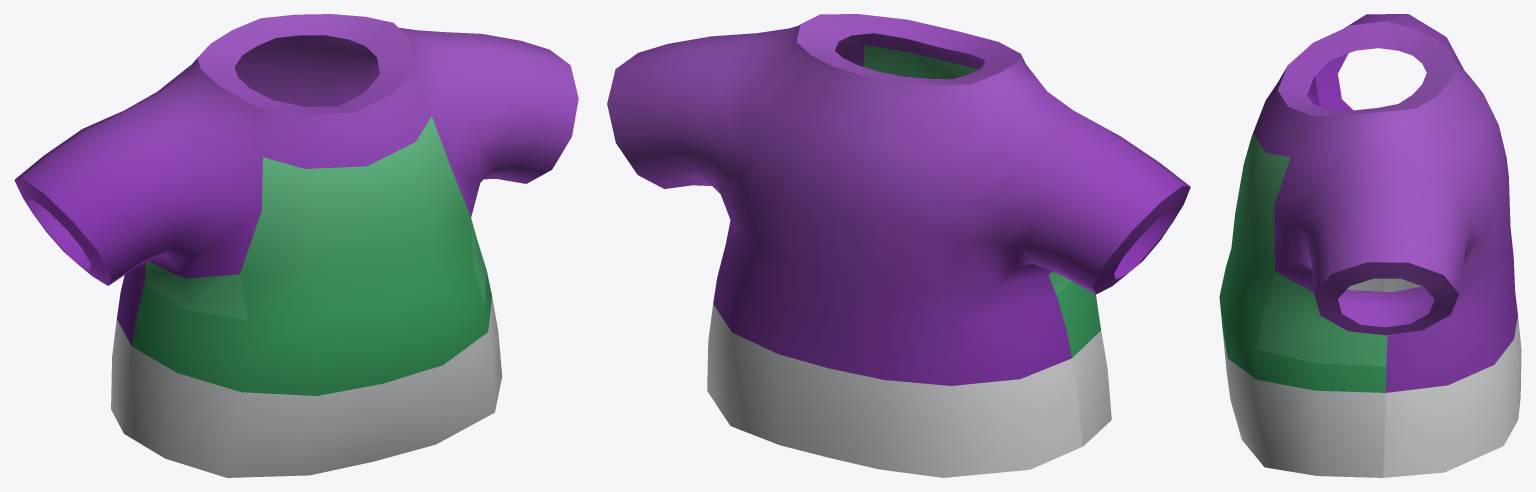
File: Outwear_49.glb
3 renders of one model, left to right at view 1: azimuth 30°, elevation 25°; view 2: azimuth 150°, elevation 25°; view 3: azimuth 270°, elevation 25°, orthographic. The views are drawn at different scales.
Parts seen in each view (by area): view 1: Outwear_49; view 2: Outwear_49; view 3: Outwear_49.
Part boxes in pixels (x1=…): Outwear_49: x1=14, y1=14, x2=578, y2=477; Outwear_49: x1=607, y1=14, x2=1190, y2=477; Outwear_49: x1=1219, y1=14, x2=1521, y2=477.
Bounding box in the file's own units: 0.4016 × 0.2627 × 0.2076.
1 material, 1 textured.
